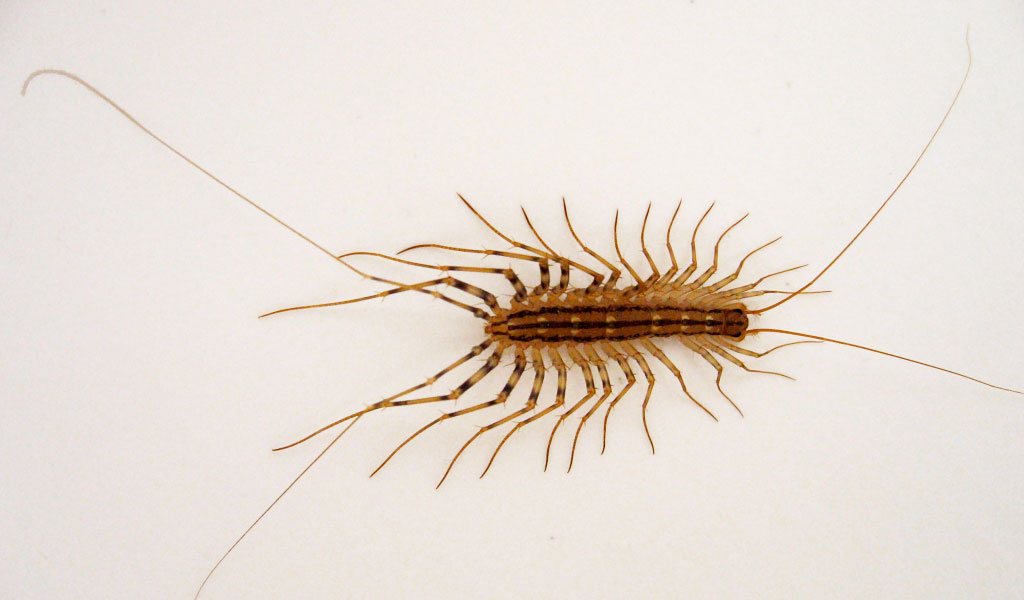centipede: (257, 197, 1015, 491)
